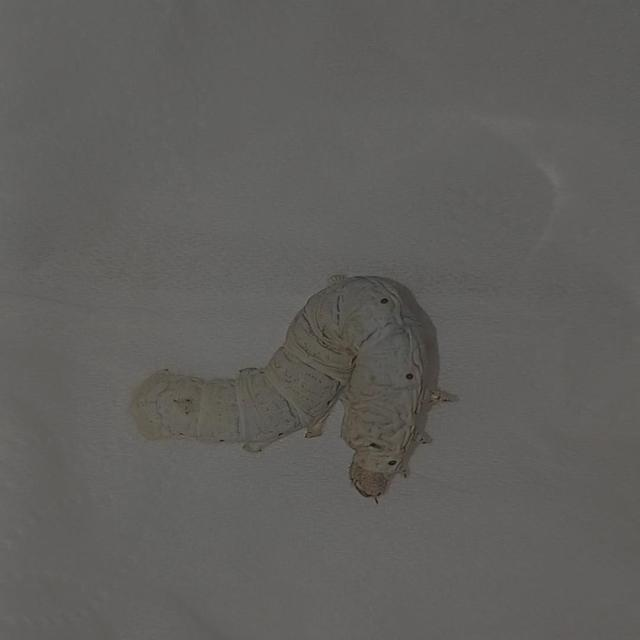Healthy: (114, 260, 496, 515)
